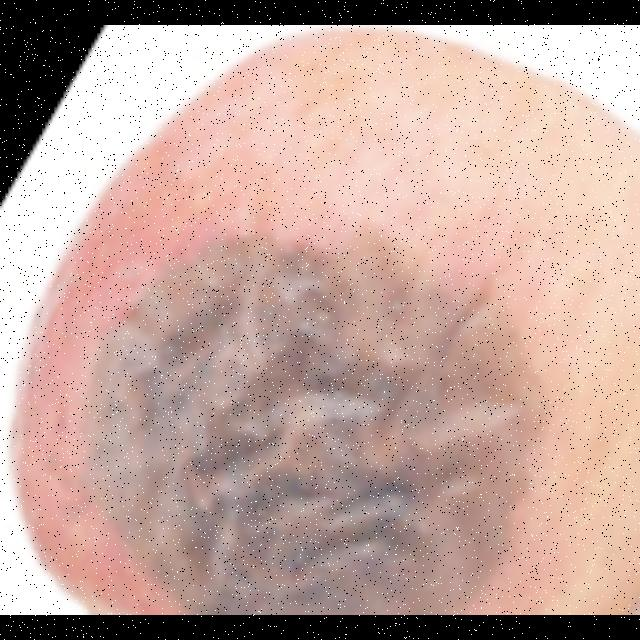Apel Tidak Segar: (0, 25, 640, 616)
